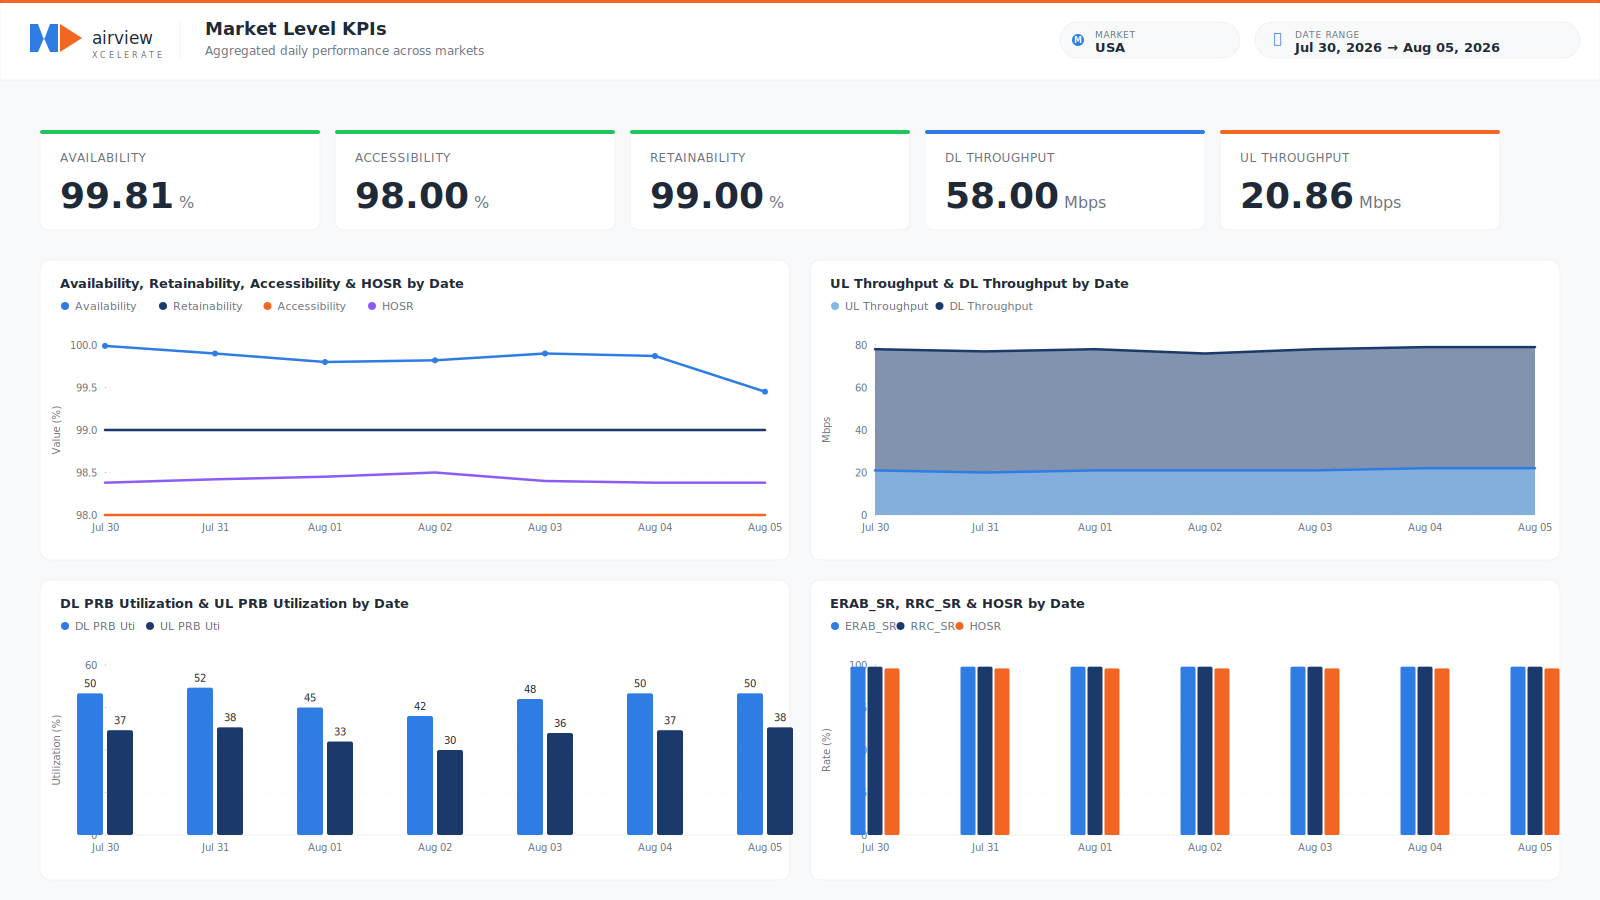

The page's visual inventory and layout, read from the dashboard file:
{"tool":"powerbi","page":{"name":"Market Level KPIs","canvas":[1280,720],"ordinal":1},"visuals":[{"type":"slicer","fields":{"Values":["RF Market_Daily_KPI.Market"]},"box":[0,0,177,59],"z":0},{"type":"slicer","fields":{"Values":["RF Market_Daily_KPI.Date"]},"box":[177,0,227.8,59],"z":1},{"type":"lineChart","fields":{"Y":["Sum(RF Market_Daily_KPI.Availability)","Sum(RF Market_Daily_KPI.Retainability)","Sum(RF Market_Daily_KPI.Accessibility)","Sum(RF Market_Daily_KPI.HOSR)"],"Category":["RF Market_Daily_KPI.Date"]},"box":[0,188,639.5,278.6],"z":2},{"type":"stackedAreaChart","fields":{"Y":["Sum(RF Market_Daily_KPI.UL Throughput)","Sum(RF Market_Daily_KPI.DL Throughput)"],"Category":["RF Market_Daily_KPI.Date"]},"box":[639.5,188,640.8,278.6],"z":3},{"type":"cardVisual","fields":{"Data":["Avg(RF Market_Daily_KPI.Availability)"]},"box":[0,59,219.6,129],"z":4},{"type":"cardVisual","fields":{"Data":["Avg(RF Market_Daily_KPI.Accessibility)"]},"box":[230.5,59,241.5,129],"z":5},{"type":"cardVisual","fields":{"Data":["Avg(RF Market_Daily_KPI.Retainability)"]},"box":[483,59,247,129],"z":6},{"type":"cardVisual","fields":{"Data":["Avg(RF Market_Daily_KPI.DL Throughput)"]},"box":[742.4,59,263.5,129],"z":7},{"type":"cardVisual","fields":{"Data":["Avg(RF Market_Daily_KPI.UL Throughput)"]},"box":[1015.4,59,236,129],"z":8},{"type":"clusteredColumnChart","fields":{"Y":["Sum(RF Market_Daily_KPI.DL PRB Uti)","Sum(RF Market_Daily_KPI.UL PRB Uti)"],"Category":["RF Market_Daily_KPI.Date"]},"box":[0,466.6,639.5,253.9],"z":9},{"type":"clusteredColumnChart","fields":{"Category":["RF Market_Daily_KPI.Date"],"Y":["Sum(RF Market_Daily_KPI.ERAB_SR)","Sum(RF Market_Daily_KPI.RRC_SR)","Sum(RF Market_Daily_KPI.HOSR)"]},"box":[639,467,641,253],"z":10}]}

Visuals, with their boxes in screenshot pixels (x1, y1, x2, y2), scaled from the page's 1280x720 canvas onto the 1600x900 screenshot:
slicer - RF Market_Daily_KPI.Market: crop(0, 0, 221, 74)
slicer - RF Market_Daily_KPI.Date: crop(221, 0, 506, 74)
lineChart - Sum(RF Market_Daily_KPI.Availability) x Sum(RF Market_Daily_KPI.Retainability): crop(0, 235, 799, 583)
stackedAreaChart - Sum(RF Market_Daily_KPI.UL Throughput) x Sum(RF Market_Daily_KPI.DL Throughput): crop(799, 235, 1599, 583)
cardVisual - Avg(RF Market_Daily_KPI.Availability): crop(0, 74, 274, 235)
cardVisual - Avg(RF Market_Daily_KPI.Accessibility): crop(288, 74, 590, 235)
cardVisual - Avg(RF Market_Daily_KPI.Retainability): crop(604, 74, 912, 235)
cardVisual - Avg(RF Market_Daily_KPI.DL Throughput): crop(928, 74, 1257, 235)
cardVisual - Avg(RF Market_Daily_KPI.UL Throughput): crop(1269, 74, 1564, 235)
clusteredColumnChart - Sum(RF Market_Daily_KPI.DL PRB Uti) x Sum(RF Market_Daily_KPI.UL PRB Uti): crop(0, 583, 799, 899)
clusteredColumnChart - RF Market_Daily_KPI.Date x Sum(RF Market_Daily_KPI.ERAB_SR): crop(799, 584, 1599, 899)
